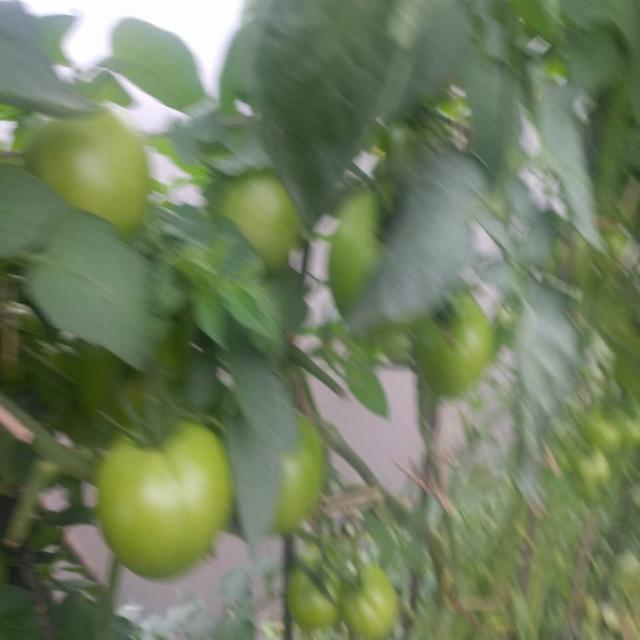tomato: (97, 417, 234, 578), (30, 111, 149, 229), (332, 187, 411, 316), (216, 173, 296, 274), (418, 289, 489, 394), (284, 408, 337, 528), (291, 555, 337, 633), (347, 562, 394, 636), (567, 454, 610, 493), (590, 404, 621, 452), (618, 400, 640, 440)
